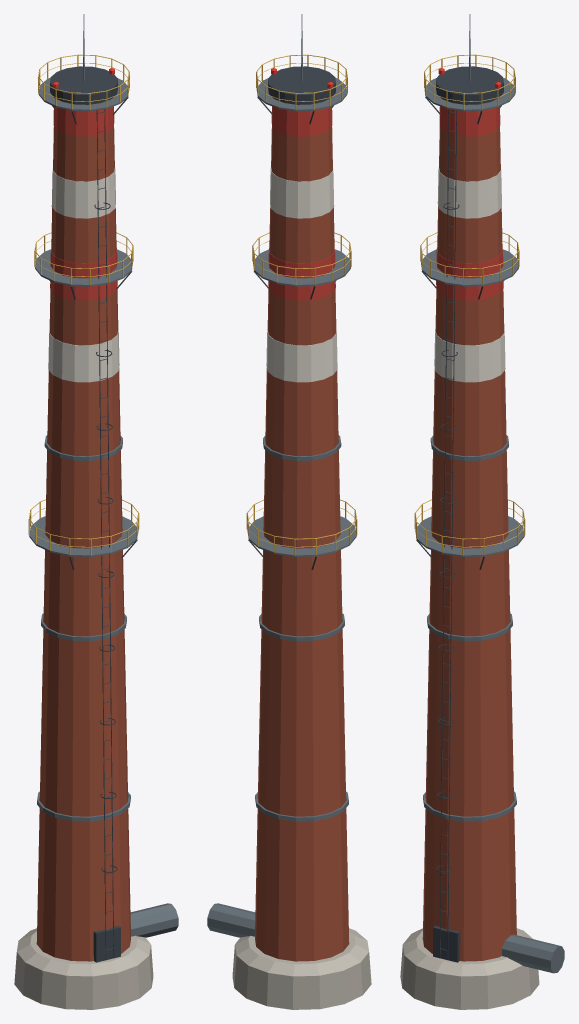
The model's file is RURAL_08.obj.
3 renders of one model, left to right at view 1: azimuth 30°, elevation 25°; view 2: azimuth 150°, elevation 25°; view 3: azimuth 330°, elevation 25°, orthographic.
Parts seen in each view (by area): view 1: shaft, stripes, base_plinth, platforms, ladder, platform_rails, top_cap, ring_bands, flue_breaching, access_door, ladder_cage; view 2: shaft, stripes, base_plinth, platforms, platform_rails, top_cap, ring_bands, flue_breaching; view 3: shaft, stripes, base_plinth, platforms, ladder, platform_rails, top_cap, flue_breaching, ring_bands, access_door.
Boxes of the visible parts, bbox=[...] form: shaft: bbox=[36, 126, 130, 961]; stripes: bbox=[48, 106, 119, 382]; base_plinth: bbox=[14, 928, 153, 1009]; platforms: bbox=[29, 77, 138, 556]; ladder: bbox=[96, 109, 114, 959]; platform_rails: bbox=[28, 54, 139, 555]; top_cap: bbox=[50, 66, 117, 104]; ring_bands: bbox=[37, 435, 130, 821]; flue_breaching: bbox=[130, 903, 178, 937]; access_door: bbox=[93, 925, 120, 962]; ladder_cage: bbox=[94, 202, 117, 872]; shaft: bbox=[255, 126, 349, 961]; stripes: bbox=[266, 106, 337, 382]; base_plinth: bbox=[232, 928, 371, 1009]; platforms: bbox=[247, 77, 356, 556]; platform_rails: bbox=[246, 54, 357, 555]; top_cap: bbox=[268, 66, 335, 104]; ring_bands: bbox=[255, 435, 348, 821]; flue_breaching: bbox=[207, 903, 255, 937]; shaft: bbox=[422, 124, 516, 961]; stripes: bbox=[434, 106, 505, 382]; base_plinth: bbox=[400, 928, 539, 1009]; platforms: bbox=[415, 78, 524, 556]; ladder: bbox=[439, 109, 456, 959]; platform_rails: bbox=[414, 54, 525, 555]; top_cap: bbox=[436, 66, 503, 104]; flue_breaching: bbox=[502, 934, 564, 973]; ring_bands: bbox=[423, 435, 516, 821]; access_door: bbox=[433, 925, 460, 962].
Bounding box in the file's own units: 9.57 × 59.51 × 7.83.
